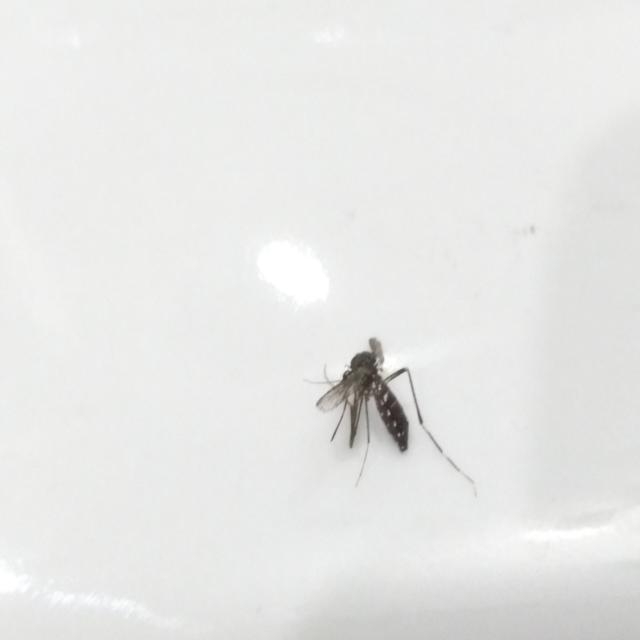albopictus: (301, 330, 473, 494)
